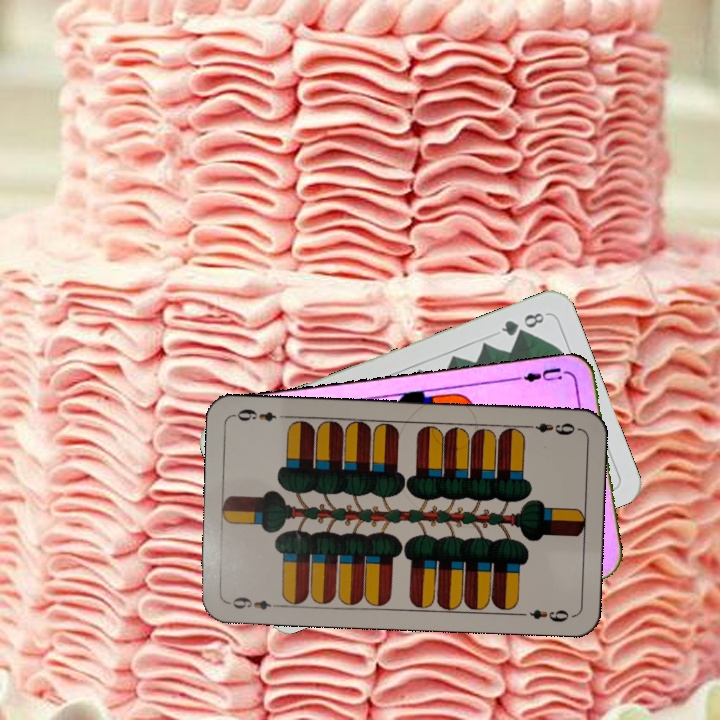E9: (225, 593, 284, 612), (521, 419, 578, 438)
EU: (520, 362, 564, 385)
G8: (497, 308, 547, 339)
